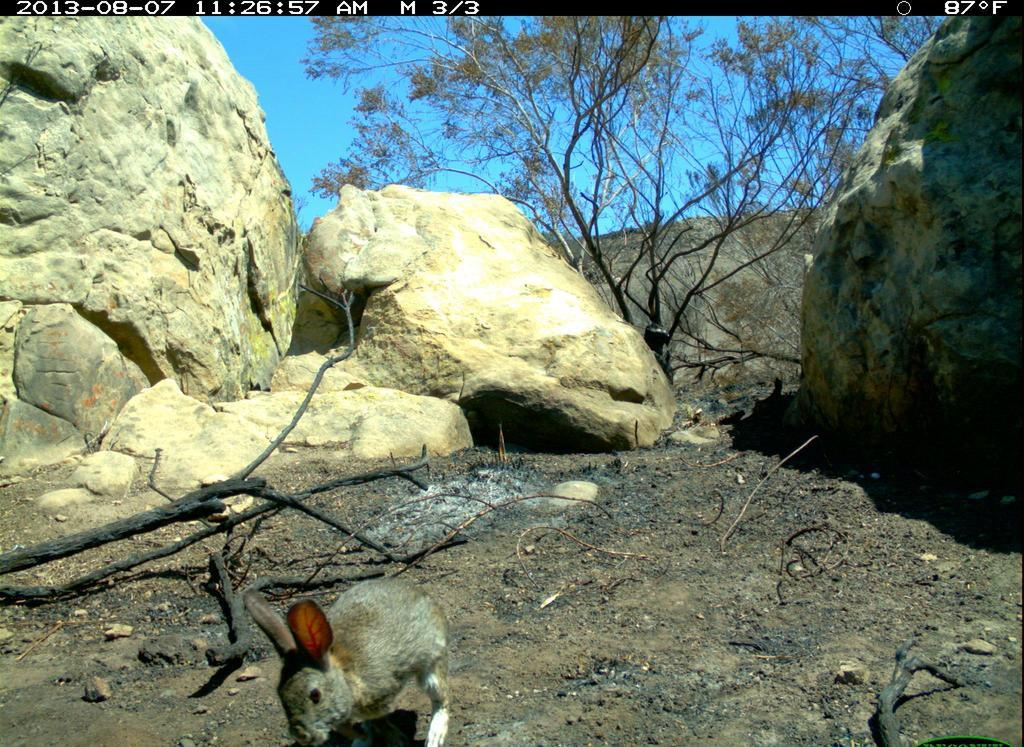rabbit: (240, 561, 466, 744)
